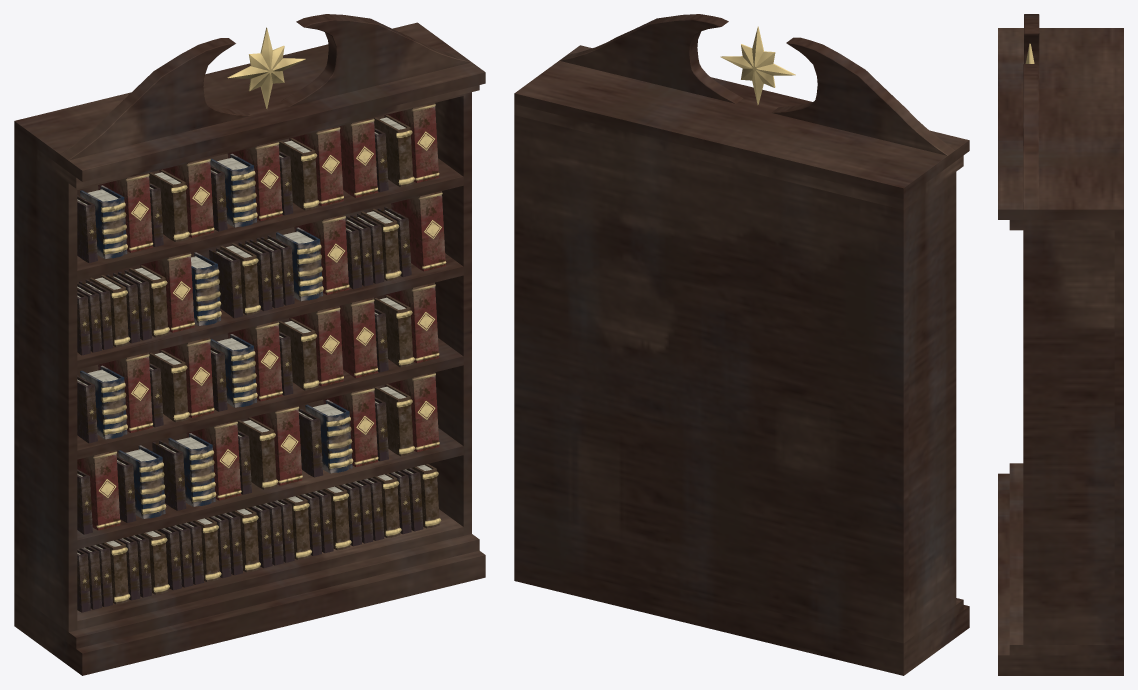
File: books.fbx
3 renders of one model, left to right at view 1: azimuth 30°, elevation 25°; view 2: azimuth 150°, elevation 25°; view 3: azimuth 270°, elevation 25°, orthographic. The views are drawn at different scales.
Visible parts, largest first — view 1: Bookcase_1.003, Bookcase_1.005, Bookcase_1.006, Bookcase_1.007, Bookcase_1.008, Bookcase_1.009, Bookcase_1.002, Bookcase_1.010, Bookcase_1.011, Book5.090, Book5.030, Book5.111 (+96 smaller); view 2: Bookcase_1.001, Bookcase_1.003, Bookcase_1.005, Bookcase_1.006; view 3: Bookcase_1.007, Bookcase_1.003, Bookcase_1.006, Bookcase_1.
Part boxes in pixels (box(x1,y1,x2,y2)): Bookcase_1.003: box(14, 14, 485, 189); Bookcase_1.005: box(14, 143, 77, 631); Bookcase_1.006: box(14, 534, 485, 675); Bookcase_1.007: box(428, 92, 471, 535); Bookcase_1.008: box(77, 509, 463, 629); Bookcase_1.009: box(77, 428, 463, 549); Bookcase_1.002: box(77, 158, 463, 279); Bookcase_1.010: box(77, 338, 463, 459); Bookcase_1.011: box(77, 253, 463, 369); Book5.090: box(391, 191, 446, 271); Book5.030: box(339, 297, 378, 377); Book5.111: box(339, 118, 377, 197); Bookcase_1.001: box(514, 93, 903, 675); Bookcase_1.003: box(515, 14, 969, 209); Bookcase_1.005: box(903, 172, 956, 642); Bookcase_1.006: box(903, 598, 969, 675); Bookcase_1.007: box(1023, 230, 1114, 644); Bookcase_1.003: box(998, 14, 1123, 230); Bookcase_1.006: box(998, 463, 1123, 675); Bookcase_1: box(1114, 230, 1123, 644).
Bounding box in the file's own units: 1.88 × 2.61 × 0.55.
